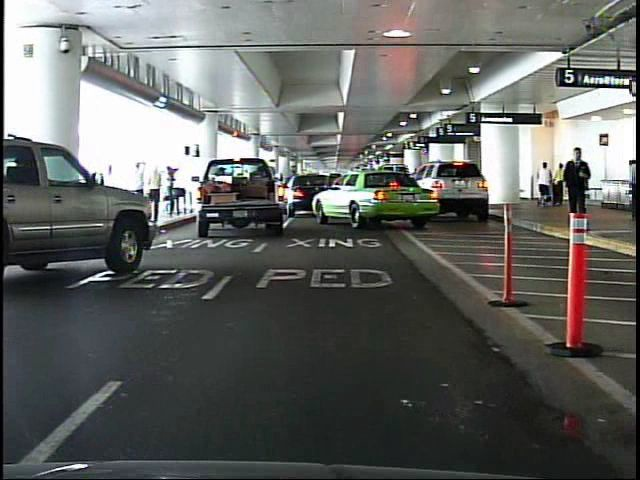person: (564, 142, 598, 239), (164, 164, 184, 224), (538, 159, 553, 207)
